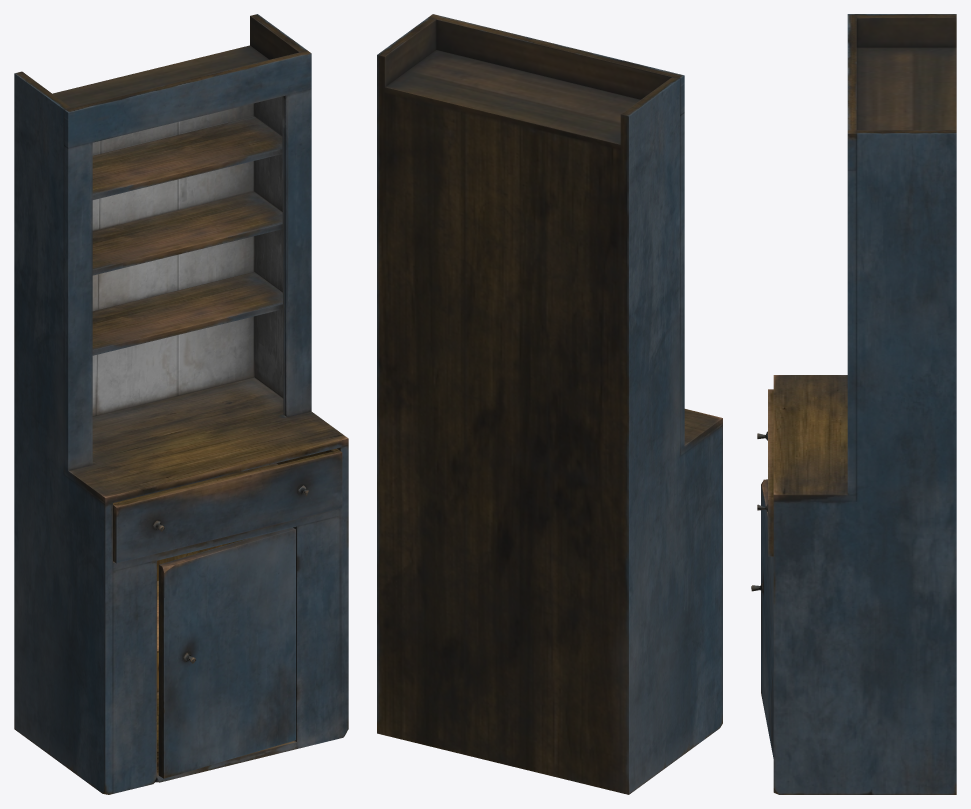
The model's file is painted_wooden_cabinet_02_lod2.glb.
3 views of the same model, side by side, from view 1: azimuth 30°, elevation 25°; view 2: azimuth 150°, elevation 25°; view 3: azimuth 270°, elevation 25° (orthographic). The views are drawn at different scales.
Parts seen in each view (by area): view 1: painted_wooden_cabinet_02, painted_wooden_cabinet_02_door, painted_wooden_cabinet_02_drawer; view 2: painted_wooden_cabinet_02; view 3: painted_wooden_cabinet_02, painted_wooden_cabinet_02_door, painted_wooden_cabinet_02_drawer.
Part boxes in pixels (bbox=[...]): painted_wooden_cabinet_02: bbox=[14, 14, 348, 794]; painted_wooden_cabinet_02_door: bbox=[158, 527, 295, 778]; painted_wooden_cabinet_02_drawer: bbox=[113, 448, 342, 563]; painted_wooden_cabinet_02: bbox=[377, 14, 722, 794]; painted_wooden_cabinet_02: bbox=[773, 14, 956, 794]; painted_wooden_cabinet_02_door: bbox=[751, 479, 773, 758]; painted_wooden_cabinet_02_drawer: bbox=[757, 389, 773, 556].
Size of the model in its own units: 0.9969 by 2.57 by 0.7223.
1 material, 1 textured.
